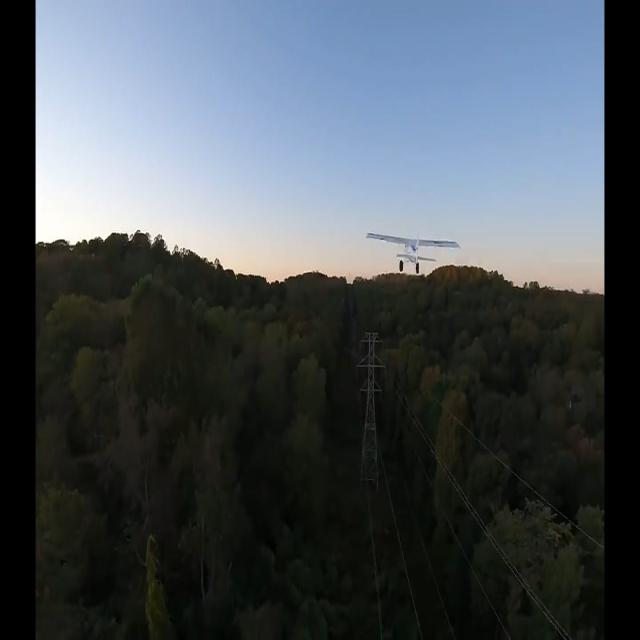iha: (397, 230, 430, 276)
